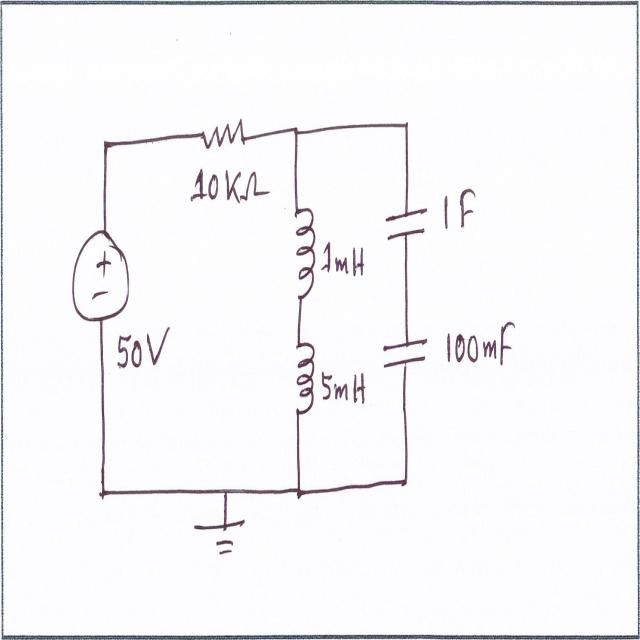capacitor: (380, 332, 432, 381), (383, 200, 429, 247)
ground: (189, 518, 252, 559)
inductor: (291, 190, 316, 312), (292, 340, 318, 424)
resistor: (197, 114, 249, 154)
voltage_source: (65, 227, 136, 329)
